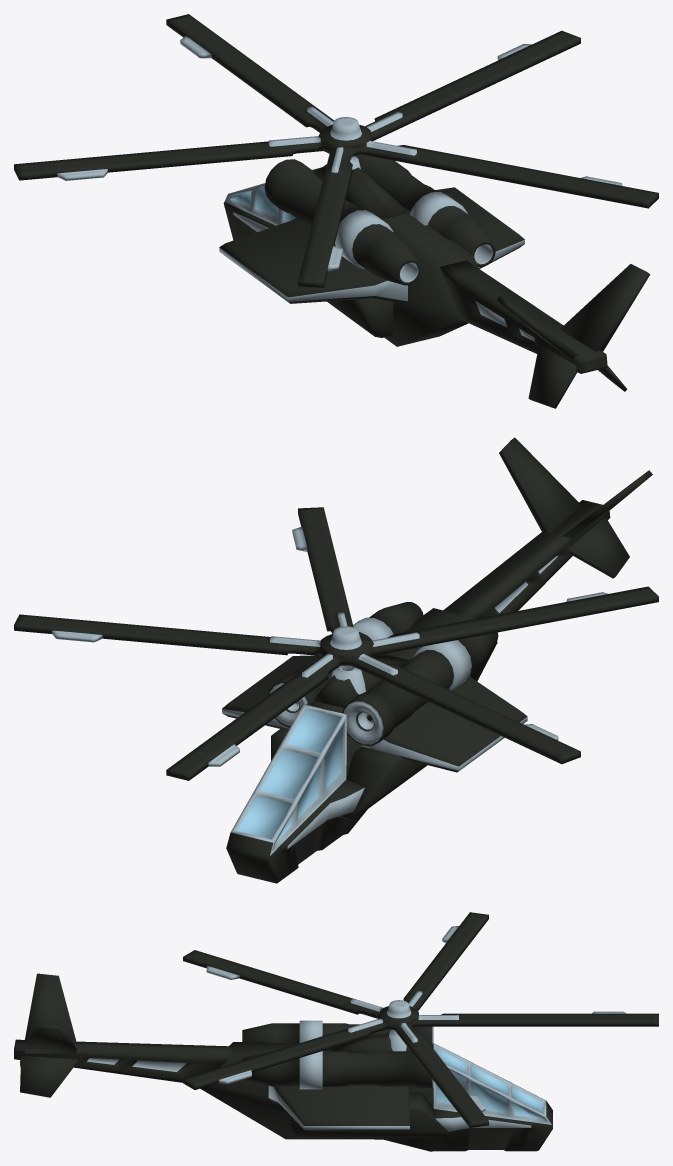
File: copter_seperated.fbx
The picture shows the model from 3 angles, top to bottom: view 1: azimuth 30°, elevation 25°; view 2: azimuth 150°, elevation 25°; view 3: azimuth 270°, elevation 25°; orthographic projection. The views are drawn at different scales.
Parts seen in each view (by area): view 1: Copter_Body, Copter_Blades; view 2: Copter_Body, Copter_Blades; view 3: Copter_Body, Copter_Blades.
Part boxes in pixels (left/top/right/bottom): Copter_Body: left=219, top=154, right=650, bottom=408; Copter_Blades: left=14, top=14, right=658, bottom=287; Copter_Body: left=222, top=437, right=652, bottom=883; Copter_Blades: left=14, top=507, right=658, bottom=780; Copter_Body: left=14, top=973, right=552, bottom=1151; Copter_Blades: left=183, top=912, right=658, bottom=1127.
Size of the model in its own units: 2081 by 668 by 2682.
